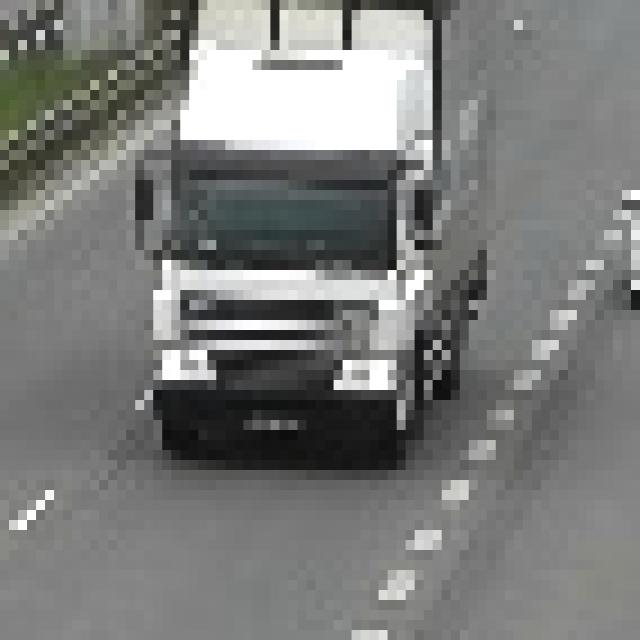truck: (127, 1, 488, 451)
